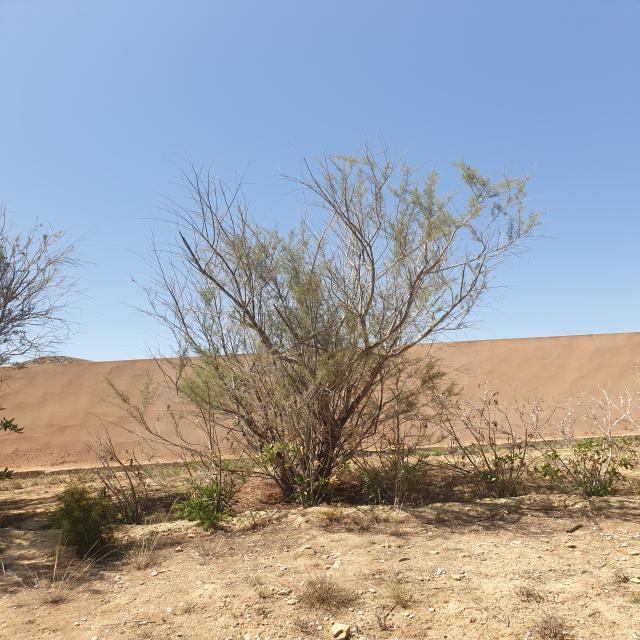Tree: (142, 145, 541, 505)
